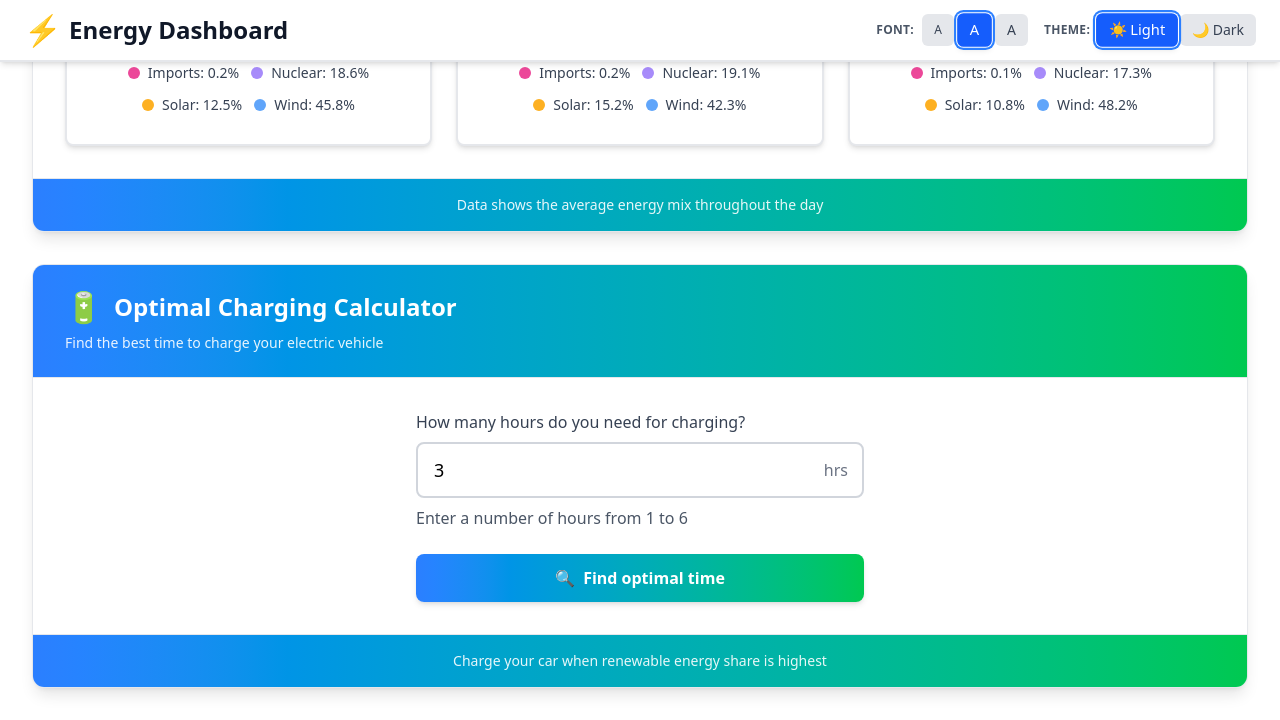
Test case: Optimal Charging Calculator › Form validation › should handle invalid input - too small
The image size is (1280, 720).
(page scrolled)
Replace the text in the number field with id "charging-hours" with "0" at (640, 470), box [416,442,864,498]
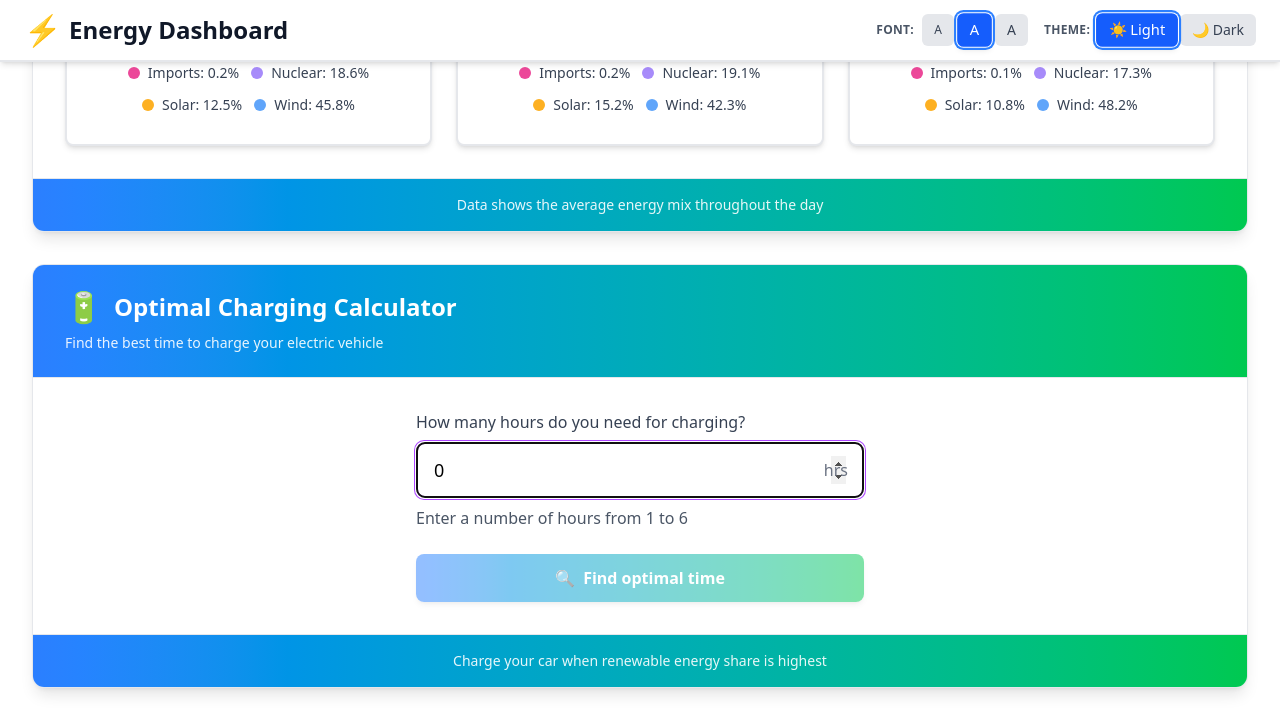
Expected: the button "🔍 Find optimal time" is disabled, [416,554,864,602]
